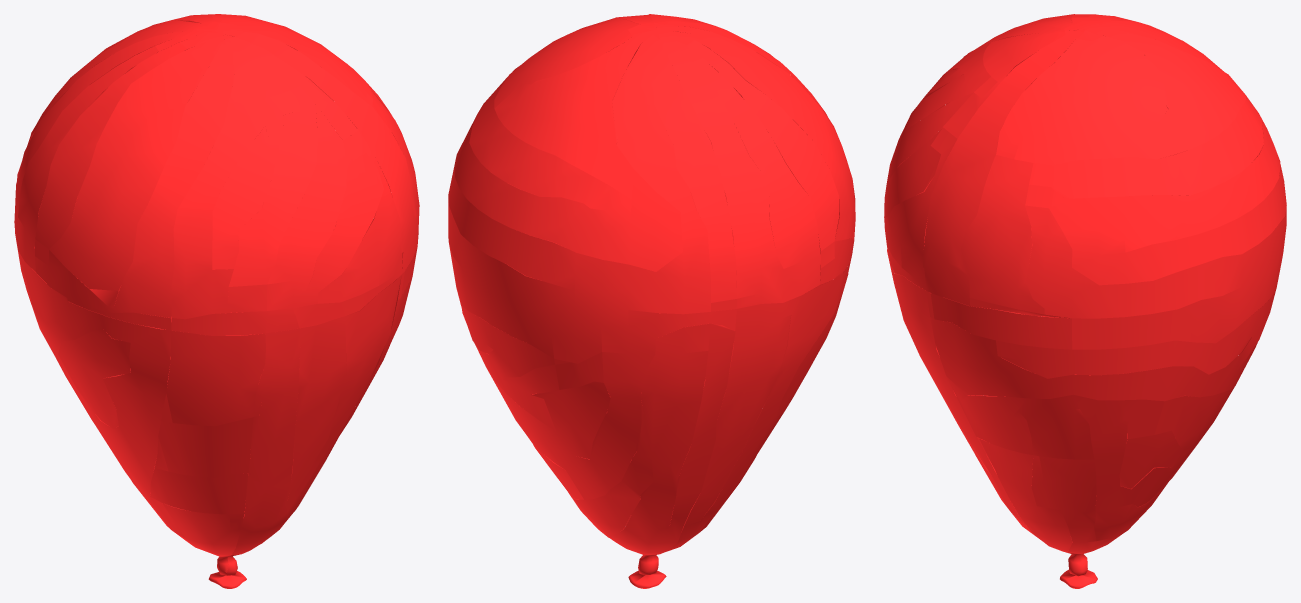
File: baloon4.fbx
The picture shows the model from 3 angles, left to right: view 1: azimuth 30°, elevation 25°; view 2: azimuth 150°, elevation 25°; view 3: azimuth 270°, elevation 25°; orthographic projection.
Visible parts, largest first — view 1: Sphere; view 2: Sphere; view 3: Sphere.
Part boxes in pixels (x1=…): Sphere: x1=14, y1=14, x2=419, y2=588; Sphere: x1=448, y1=14, x2=855, y2=588; Sphere: x1=884, y1=14, x2=1286, y2=588.
Size of the model in its own units: 191 by 287 by 191.
